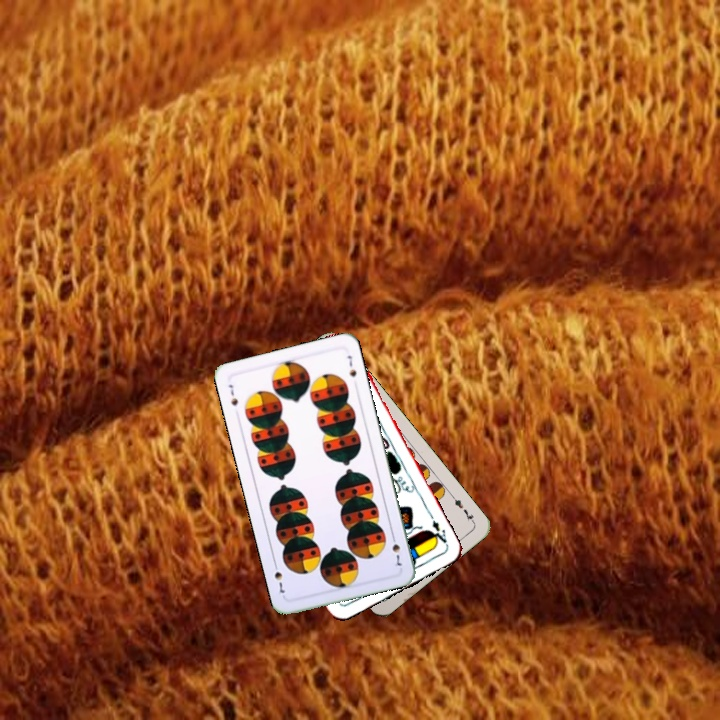E7: (448, 491, 477, 526)
EA: (426, 511, 451, 548)
S7: (388, 530, 404, 569), (224, 380, 240, 408)
